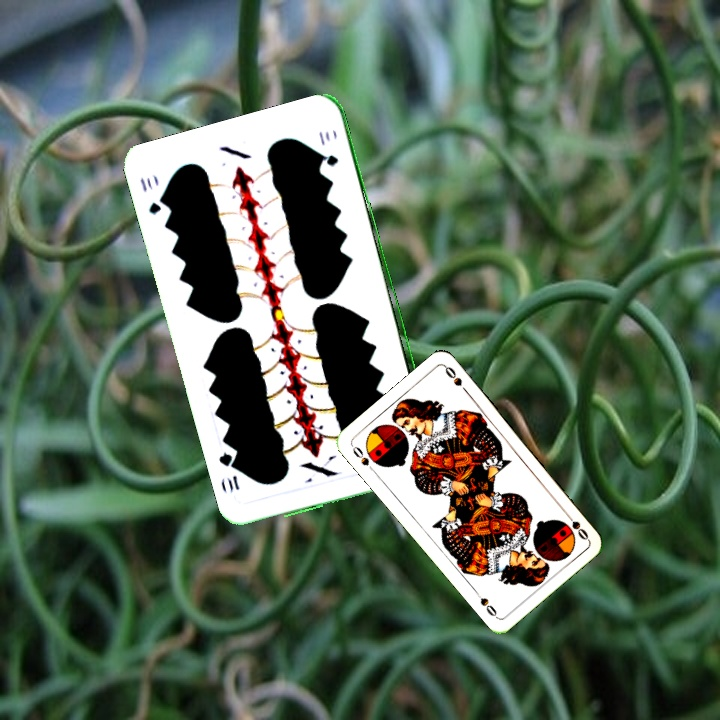G10: (136, 174, 169, 218)
SO: (561, 508, 591, 543), (348, 441, 378, 475)
